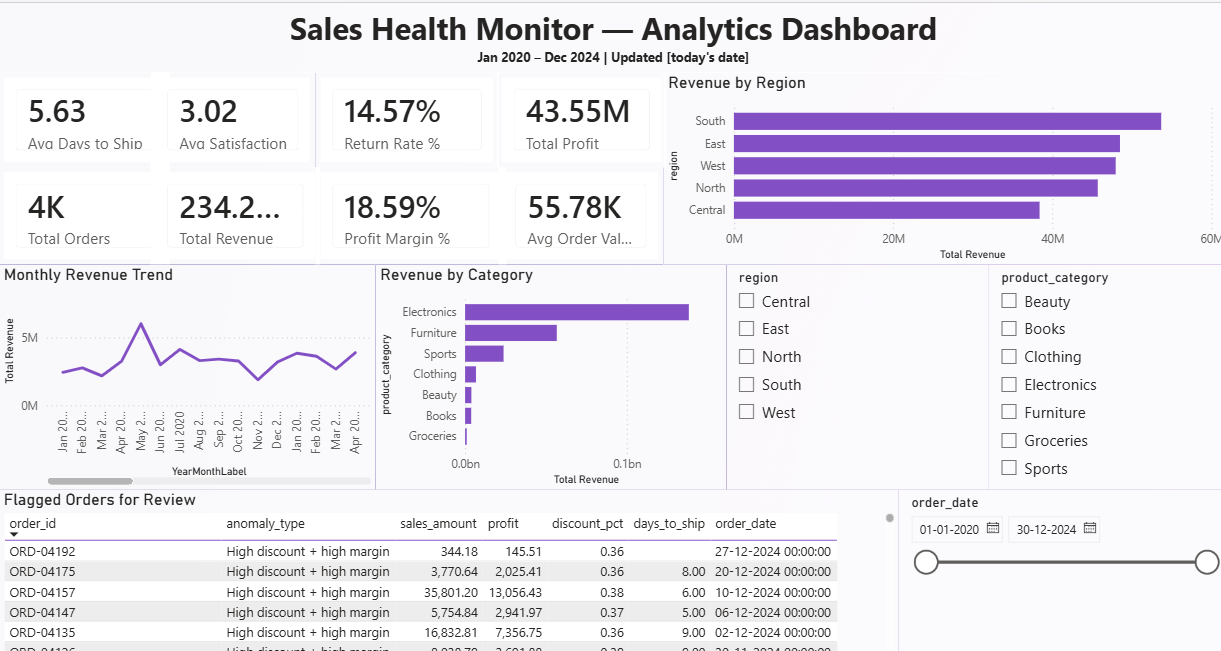

This screenshot's page, from the dashboard's own definition file:
{"tool":"powerbi","page":{"name":"Page 1","canvas":[1280,720],"ordinal":0},"visuals":[{"type":"cardVisual","fields":{"Data":["sales_db sales.Avg Days to Ship"]},"box":[0,107.8,178.1,98.4],"z":0},{"type":"cardVisual","fields":{"Data":["sales_db sales.Avg Order Value"]},"box":[520.3,206.2,171.9,101.6],"z":1000},{"type":"cardVisual","fields":{"Data":["sales_db sales.Avg Satisfaction"]},"box":[157.8,107.8,171.9,98.4],"z":2000},{"type":"cardVisual","fields":{"Data":["sales_db sales.Profit Margin %"]},"box":[329.7,206.2,198.4,101.6],"z":3000},{"type":"cardVisual","fields":{"Data":["sales_db sales.Return Rate %"]},"box":[329.7,107.8,190.6,98.4],"z":4000},{"type":"cardVisual","fields":{"Data":["sales_db sales.Total Profit"]},"box":[518.8,107.8,176.6,98.4],"z":5000},{"type":"cardVisual","fields":{"Data":["sales_db sales.Total Orders"]},"box":[0,206.2,178.1,101.6],"z":6000},{"type":"cardVisual","fields":{"Data":["sales_db sales.Total Revenue"]},"box":[157.8,206.2,176.6,101.6],"z":7000},{"type":"lineChart","title":"Monthly Revenue Trend","fields":{"Y":["sales_db sales.Total Revenue"],"Category":["sales_db sales.YearMonthLabel"]},"box":[0,307.8,392.2,234.4],"z":8000},{"type":"clusteredBarChart","title":"Revenue by Category","fields":{"Category":["sales_db sales.product_category"],"Y":["sales_db sales.Total Revenue"]},"box":[392.2,307.8,365.6,234.4],"z":9000},{"type":"clusteredBarChart","title":"Revenue by Region","fields":{"Category":["sales_db sales.region"],"Y":["sales_db sales.Total Revenue"]},"box":[692.2,107.8,587.5,200],"z":10000},{"type":"tableEx","title":"Flagged Orders for Review","fields":{"Values":["sales_db v_anomalies.order_id","sales_db v_anomalies.anomaly_type","sales_db v_anomalies.sales_amount","sales_db v_anomalies.profit","sales_db v_anomalies.discount_pct","sales_db v_anomalies.days_to_ship","sales_db v_anomalies.order_date"]},"box":[0,542.2,937.5,178.1],"z":11000},{"type":"slicer","fields":{"Values":["sales_db sales.region"]},"box":[757.8,307.8,273.4,234.4],"z":12000},{"type":"slicer","fields":{"Values":["sales_db sales.product_category"]},"box":[1031.2,307.8,248.4,234.4],"z":13000},{"type":"slicer","fields":{"Values":["sales_db sales.order_date"]},"box":[937.5,542.2,342.2,178.1],"z":14000},{"type":"textbox","box":[0,34,1280,74],"z":15000}]}

Visuals, with their boxes on the page's 1280x720 design canvas (x1, y1, x2, y2). These are canvas units, not pixel positions in the 1221x651 screenshot, which may show the page scaled, cropped or inside an application window:
cardVisual - sales_db sales.Avg Days to Ship: 0,108,178,206
cardVisual - sales_db sales.Avg Order Value: 520,206,692,308
cardVisual - sales_db sales.Avg Satisfaction: 158,108,330,206
cardVisual - sales_db sales.Profit Margin %: 330,206,528,308
cardVisual - sales_db sales.Return Rate %: 330,108,520,206
cardVisual - sales_db sales.Total Profit: 519,108,695,206
cardVisual - sales_db sales.Total Orders: 0,206,178,308
cardVisual - sales_db sales.Total Revenue: 158,206,334,308
"Monthly Revenue Trend" lineChart: 0,308,392,542
"Revenue by Category" clusteredBarChart: 392,308,758,542
"Revenue by Region" clusteredBarChart: 692,108,1280,308
"Flagged Orders for Review" tableEx: 0,542,938,720
slicer - sales_db sales.region: 758,308,1031,542
slicer - sales_db sales.product_category: 1031,308,1280,542
slicer - sales_db sales.order_date: 938,542,1280,720
textbox: 0,34,1280,108
